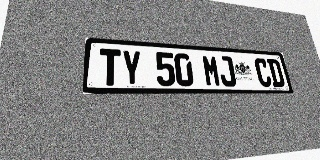0: (174, 53, 194, 86)
5: (156, 52, 176, 86)
C: (253, 58, 273, 87)
D: (266, 59, 286, 87)
J: (217, 56, 237, 87)
M: (202, 55, 222, 87)
T: (99, 48, 121, 86)
Y: (121, 50, 142, 86)
